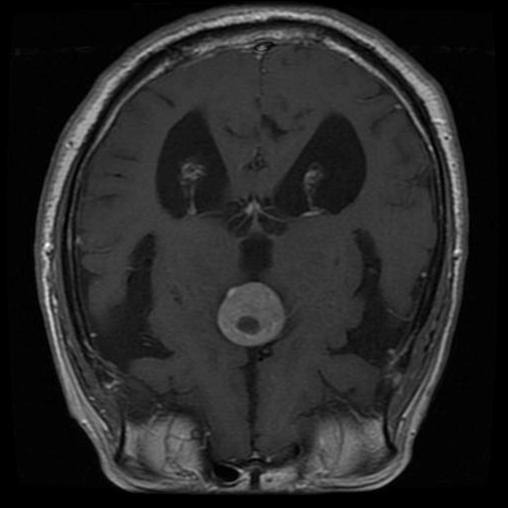Tumour-Pituitary: (210, 280, 290, 349)
